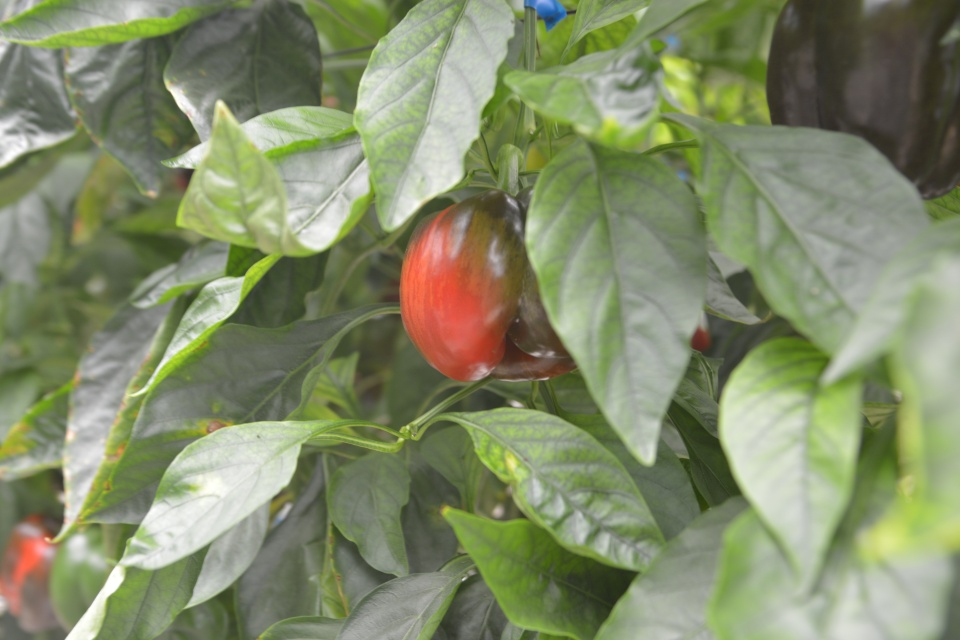fruit: (762, 2, 959, 202), (396, 188, 578, 386), (0, 511, 137, 639)
